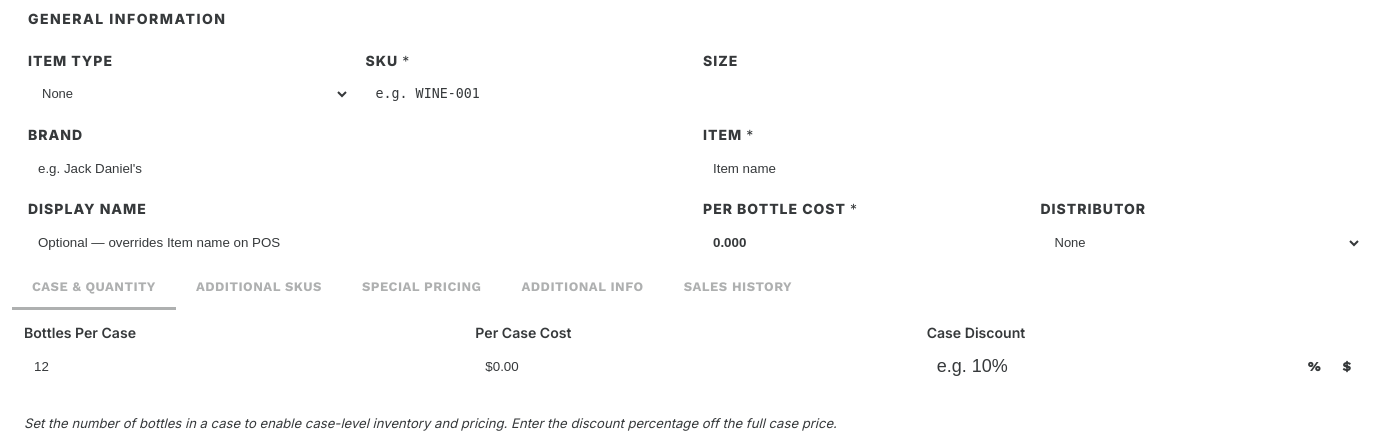
Test: ItemForm › supports adding and removing additional SKU entries
Type "TEST" into the field named "SKU" at (526, 94), box [366, 76, 687, 112]
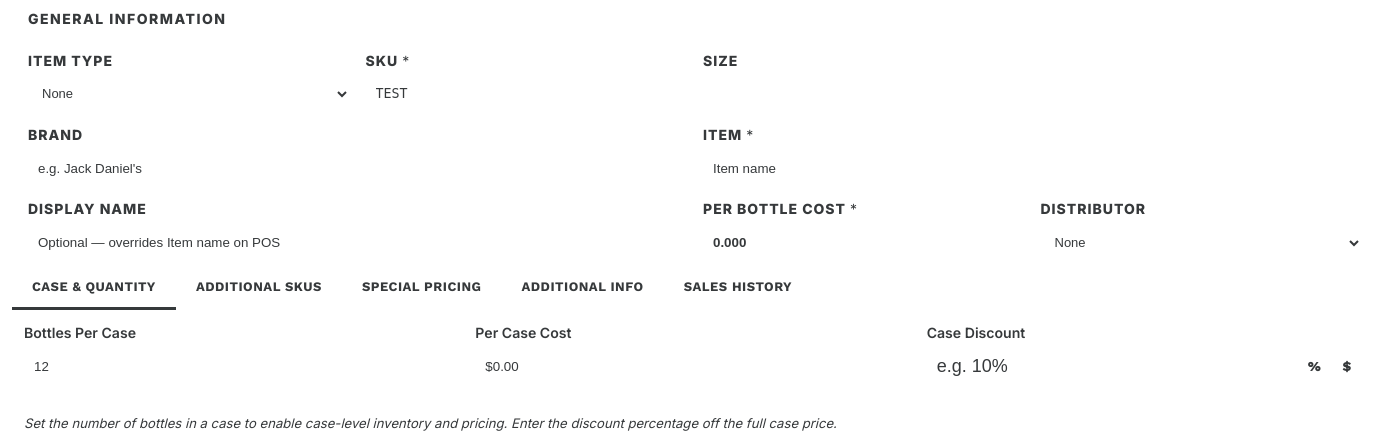
Click the tab "Additional SKUs" at (259, 288), box [176, 266, 342, 310]
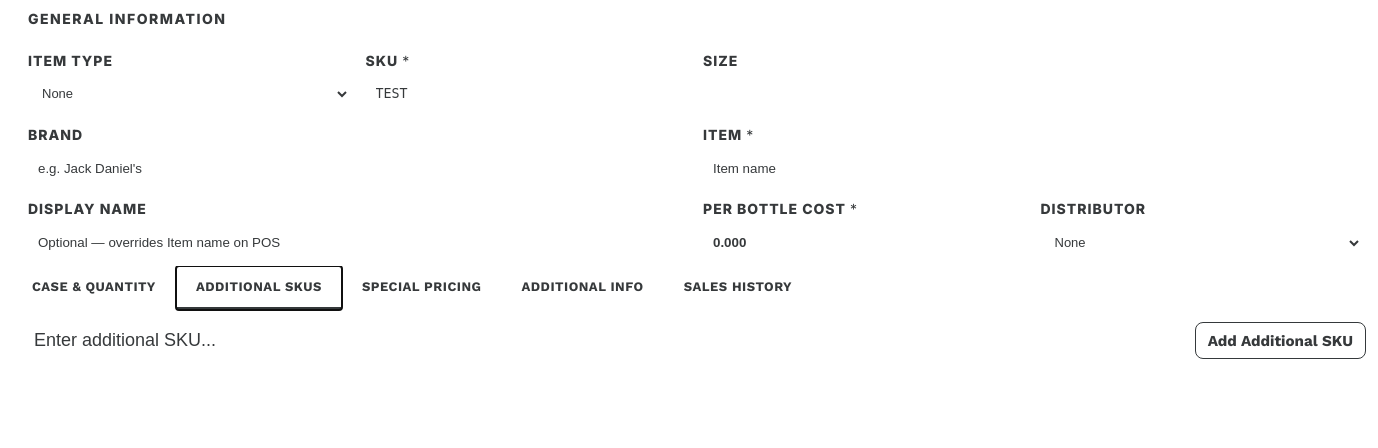
Type "SKU-X" into the field named "Additional SKU Input" at (605, 340), box [24, 322, 1187, 359]
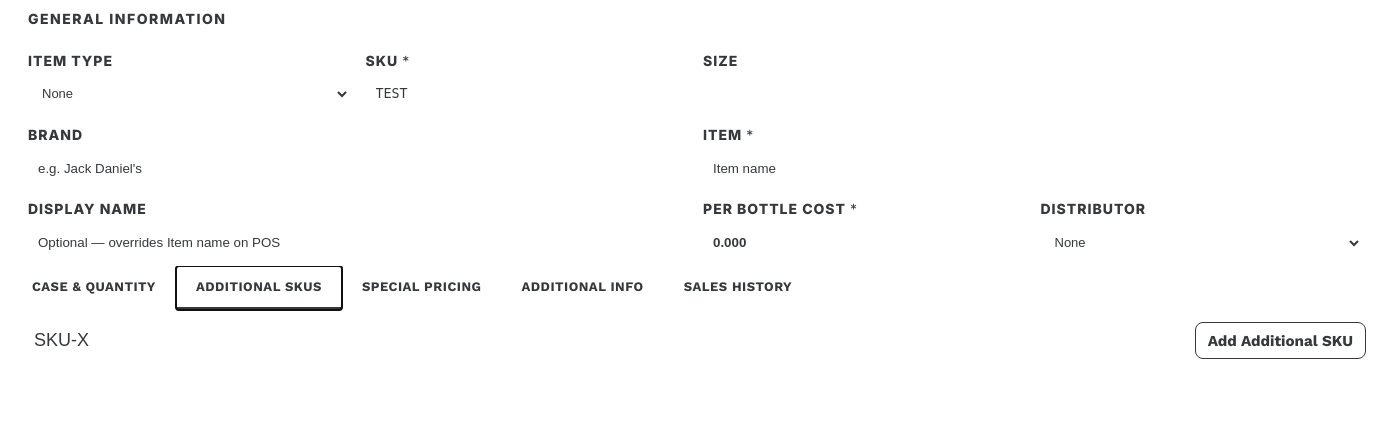
Click the button "Add Additional SKU" at (1280, 340), box [1195, 322, 1366, 359]
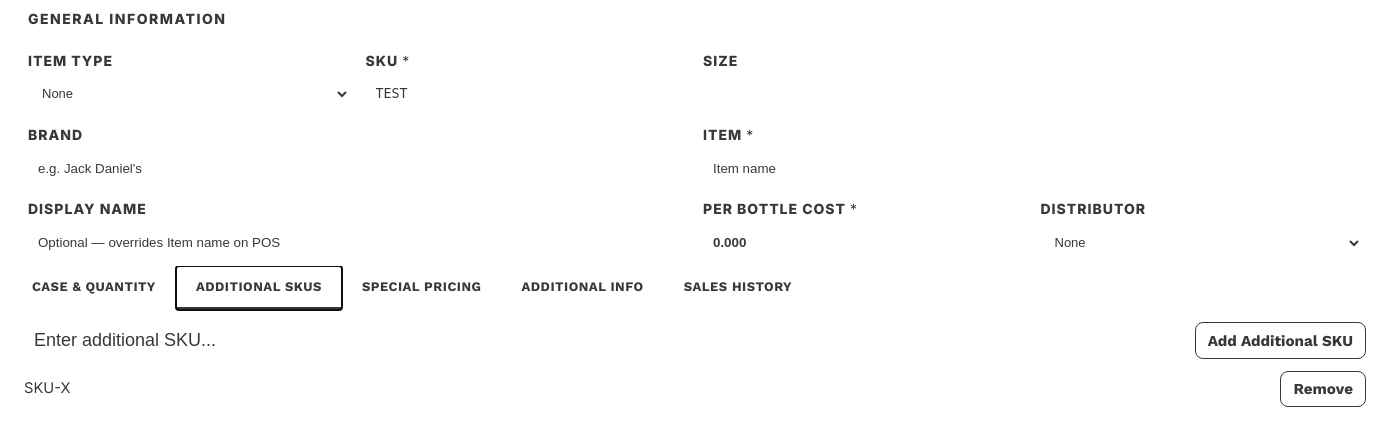
Result: the text "SKU-X" is shown at [24, 377, 71, 401]
Click the button "Remove" at (1323, 389), box [1280, 371, 1366, 407]
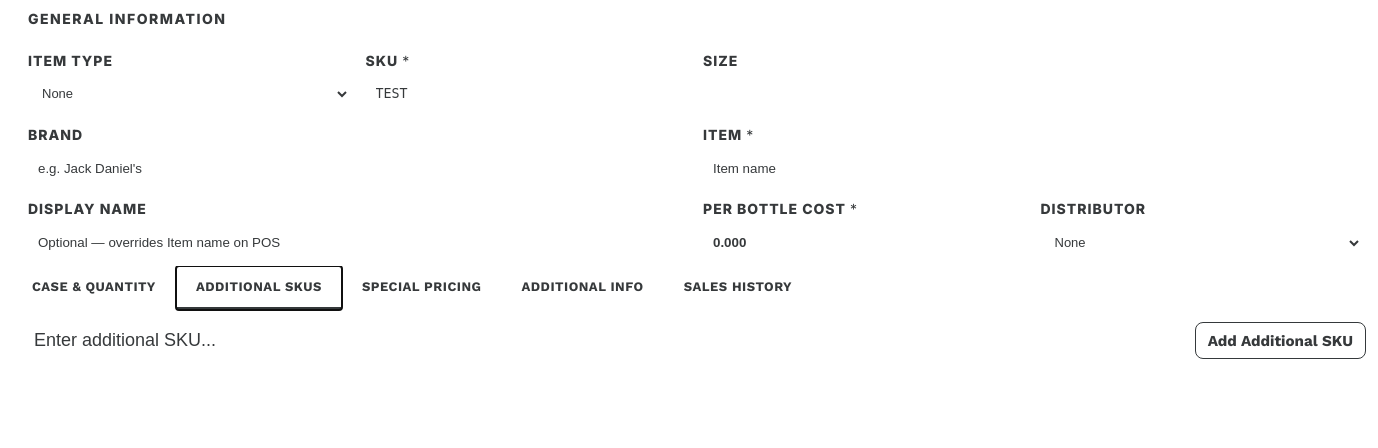
Result: the text "SKU-X" is gone
